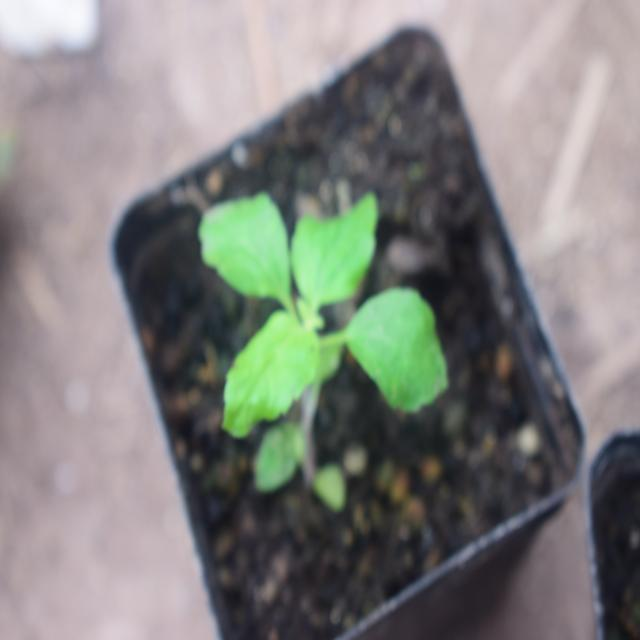billygoat_weed: (190, 184, 442, 447)
